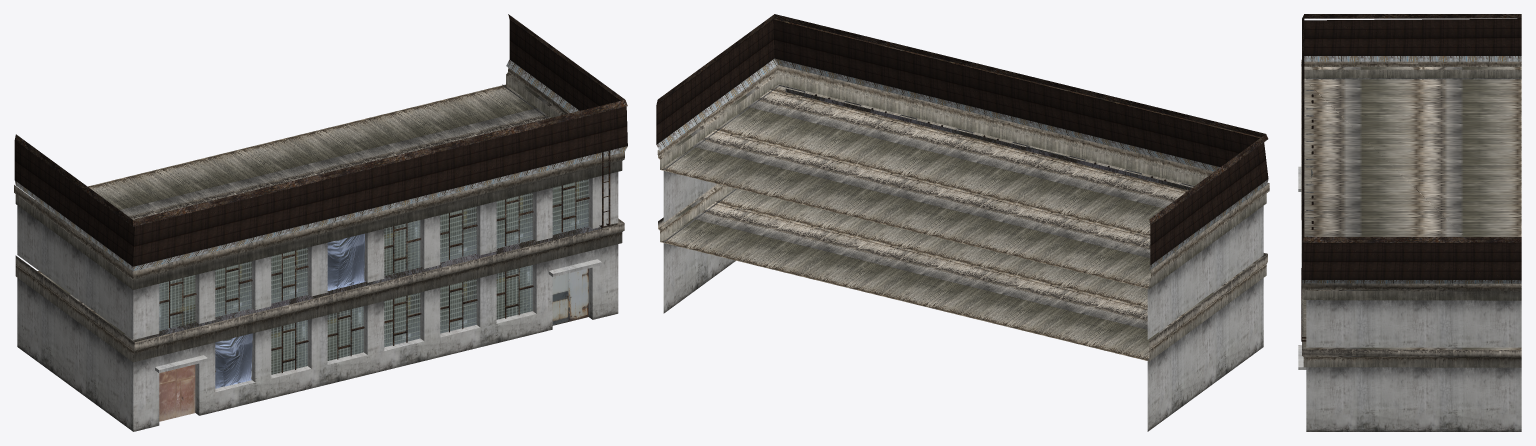
The model's file is building004.FBX.
The picture shows the model from 3 angles, left to right: view 1: azimuth 30°, elevation 25°; view 2: azimuth 150°, elevation 25°; view 3: azimuth 270°, elevation 25°; orthographic projection. The views are drawn at different scales.
Parts seen in each view (by area): view 1: Object004; view 2: Object004; view 3: Object004.
Boxes of the visible parts, x1,y1,x2,y2 form: Object004: (14,14,627,431); Object004: (656,14,1269,431); Object004: (1298,14,1521,431).
Bounding box in the file's own units: 228 × 93.58 × 95.71.
8 materials, 8 textured.
